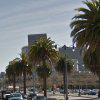Palm tree: (26, 30, 59, 100)
